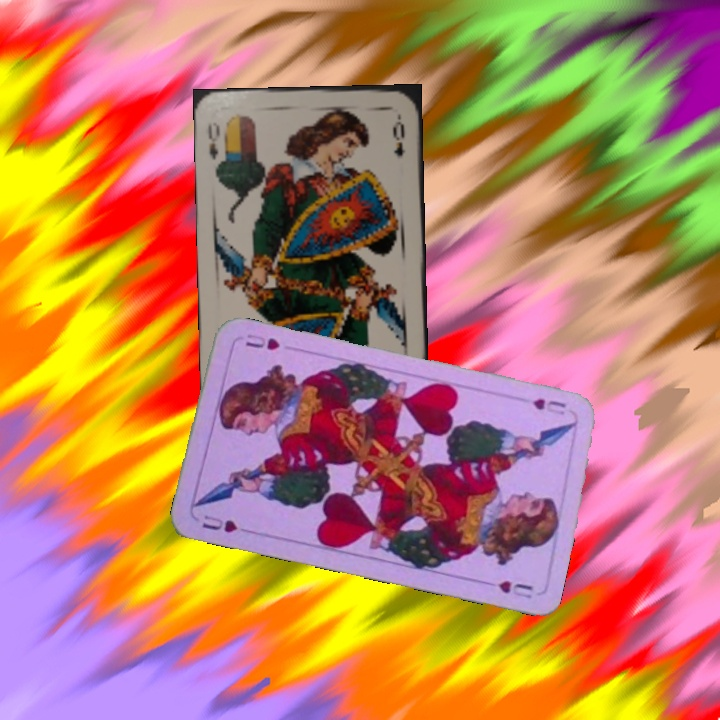EO: (204, 118, 223, 162)
HU: (198, 511, 252, 535), (528, 394, 569, 418)
